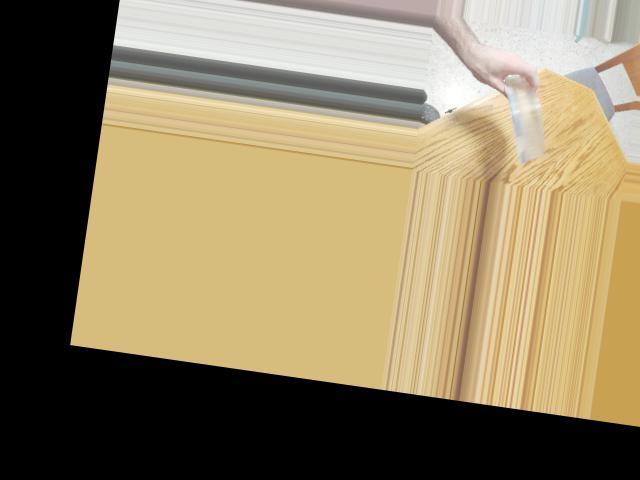cheese: (502, 65, 550, 167)
